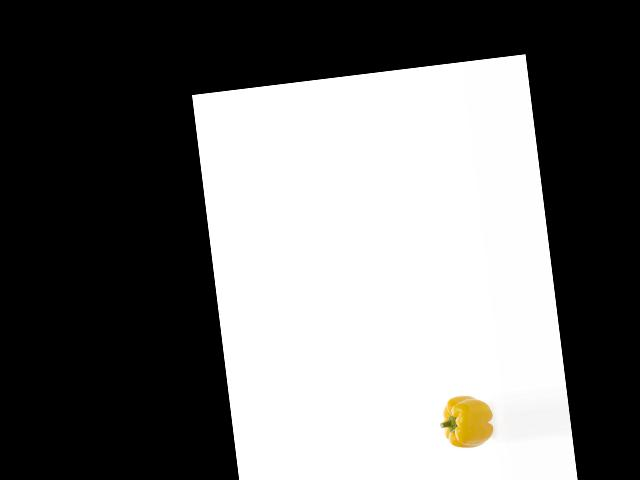bell_pepper: (434, 388, 497, 450)
